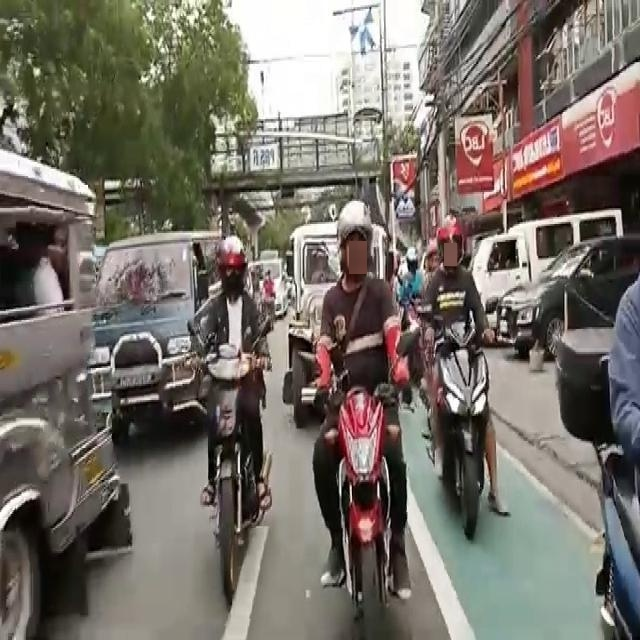car: (91, 229, 214, 447), (494, 238, 638, 362)
jeepney: (0, 176, 91, 620), (301, 216, 357, 429), (250, 198, 372, 277)
motorcycle: (330, 225, 392, 619), (203, 250, 256, 593), (443, 222, 481, 550)
